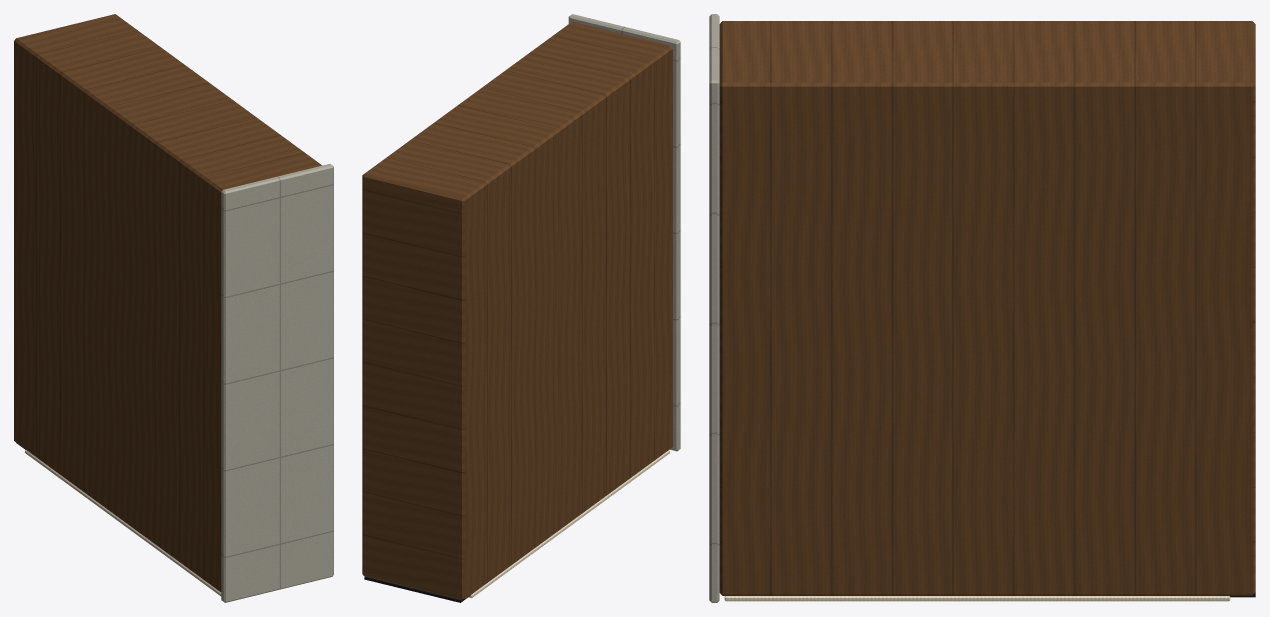
Rendered from dressing_west.obj.
3 renders of one model, left to right at view 1: azimuth 30°, elevation 25°; view 2: azimuth 150°, elevation 25°; view 3: azimuth 270°, elevation 25°, orthographic. The views are drawn at different scales.
Visible parts, largest first — view 1: dressing_west_oak, dressing_west_tile, dressing_west_linen; view 2: dressing_west_oak, dressing_west_tile, dressing_west_linen; view 3: dressing_west_oak, dressing_west_tile, dressing_west_linen.
Part boxes in pixels (x1,y1,x2,y2): dressing_west_oak: (14, 14, 321, 592); dressing_west_tile: (221, 164, 333, 602); dressing_west_linen: (25, 450, 221, 596); dressing_west_oak: (362, 21, 672, 600); dressing_west_tile: (568, 14, 680, 451); dressing_west_linen: (468, 450, 669, 598); dressing_west_oak: (719, 21, 1255, 595); dressing_west_tile: (709, 14, 719, 602); dressing_west_linen: (724, 596, 1230, 601).
Size of the model in its own units: 32 by 115 by 108.
Materials: 5 (5 with a texture image).
